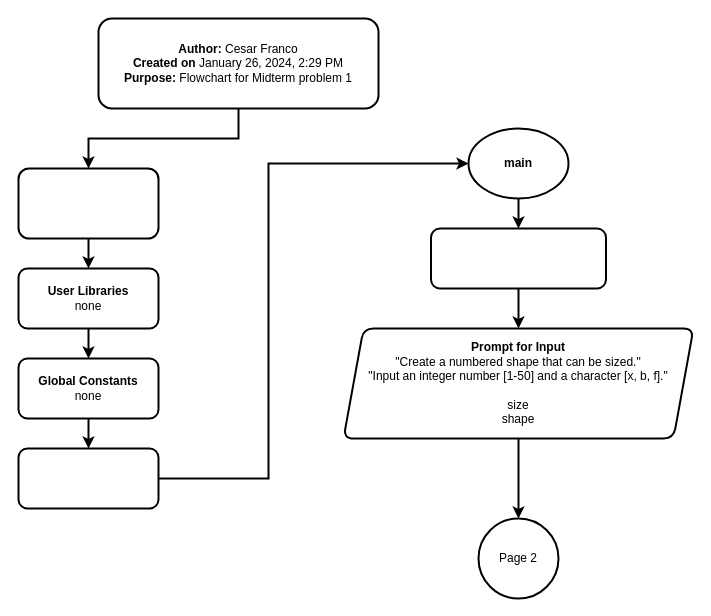
This 711x616 diagram has some shape labels left out. The box of each missing label's shape, as (x1, y1, x2, y2) in pixels:
Declare Variables size shape: (430, 227, 606, 289)
Function Prototypes void shapeX (int): (17, 447, 159, 509)
System Libraries I/O Objects Standard Namespace: (17, 167, 159, 239)
